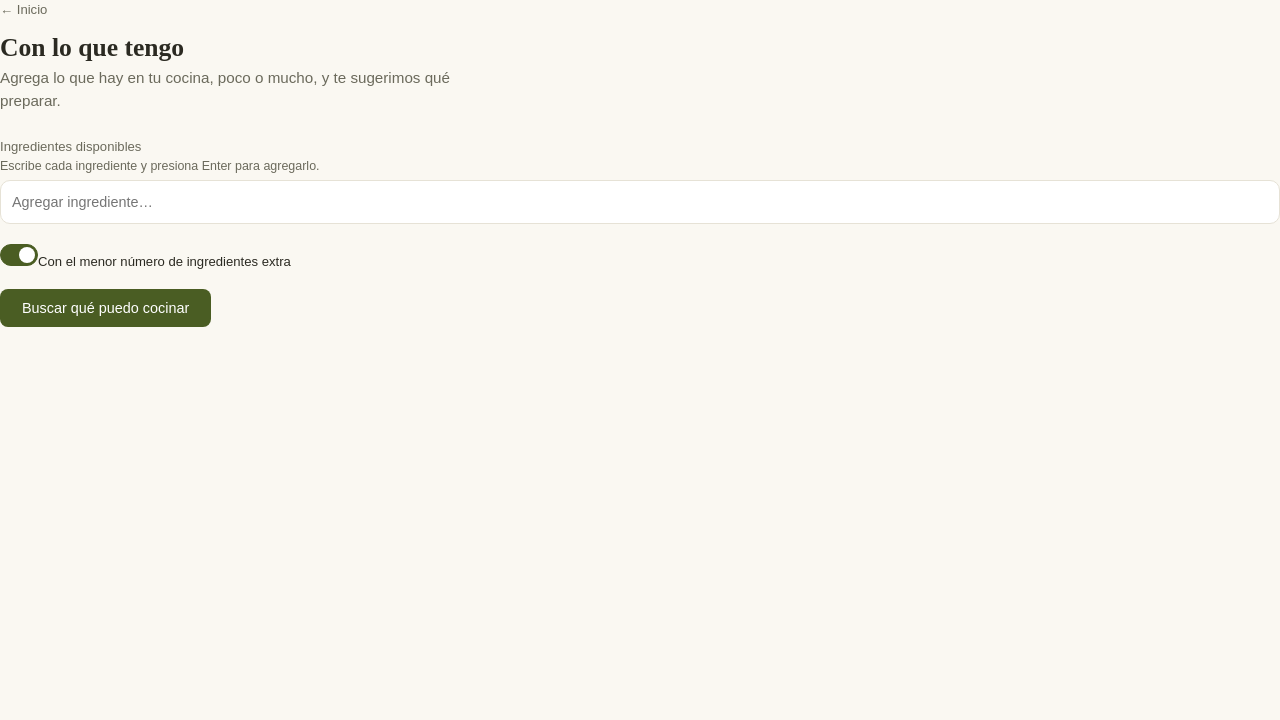
Test: HaveIngredientsComponent (Con lo que tengo) › "Buscar más opciones" agrega la siguiente tanda con la misma búsqueda
The image size is (1280, 720).
Type "pollo" into the field with placeholder "Agregar ingrediente…" at (640, 202), box left=10, top=193, right=1270, bottom=211
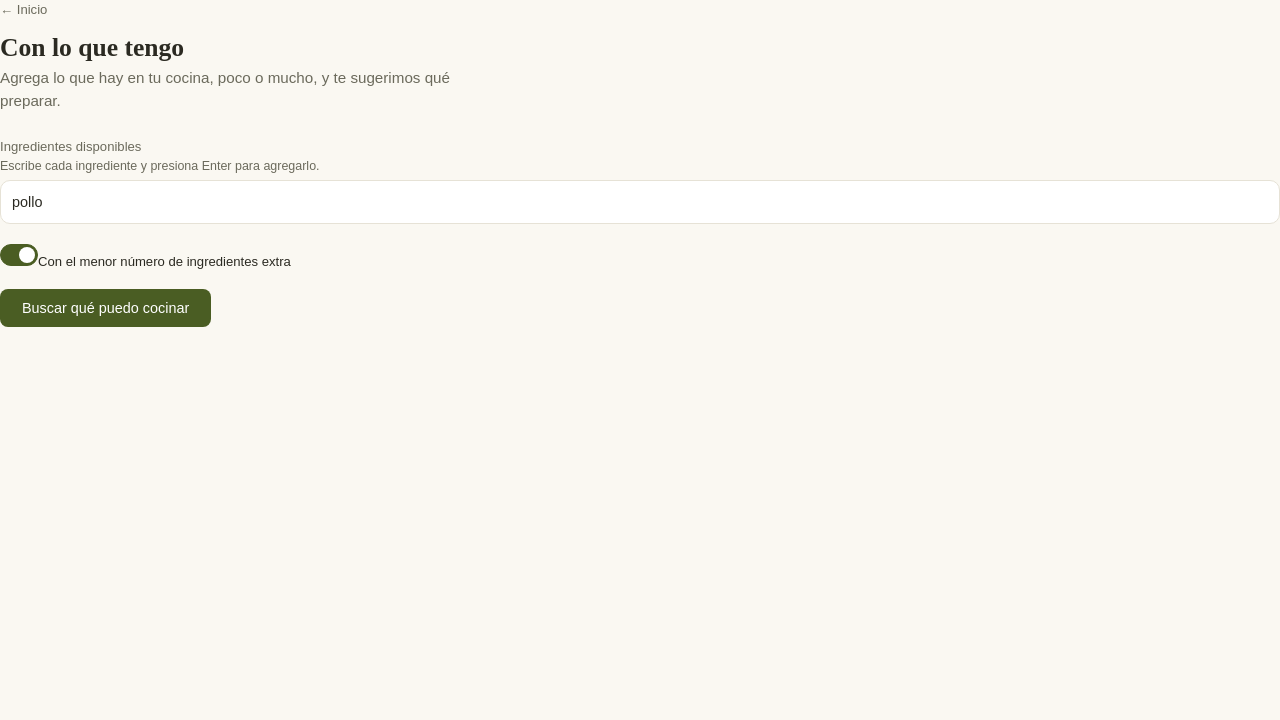
Press Enter in the field, box left=10, top=193, right=1270, bottom=211
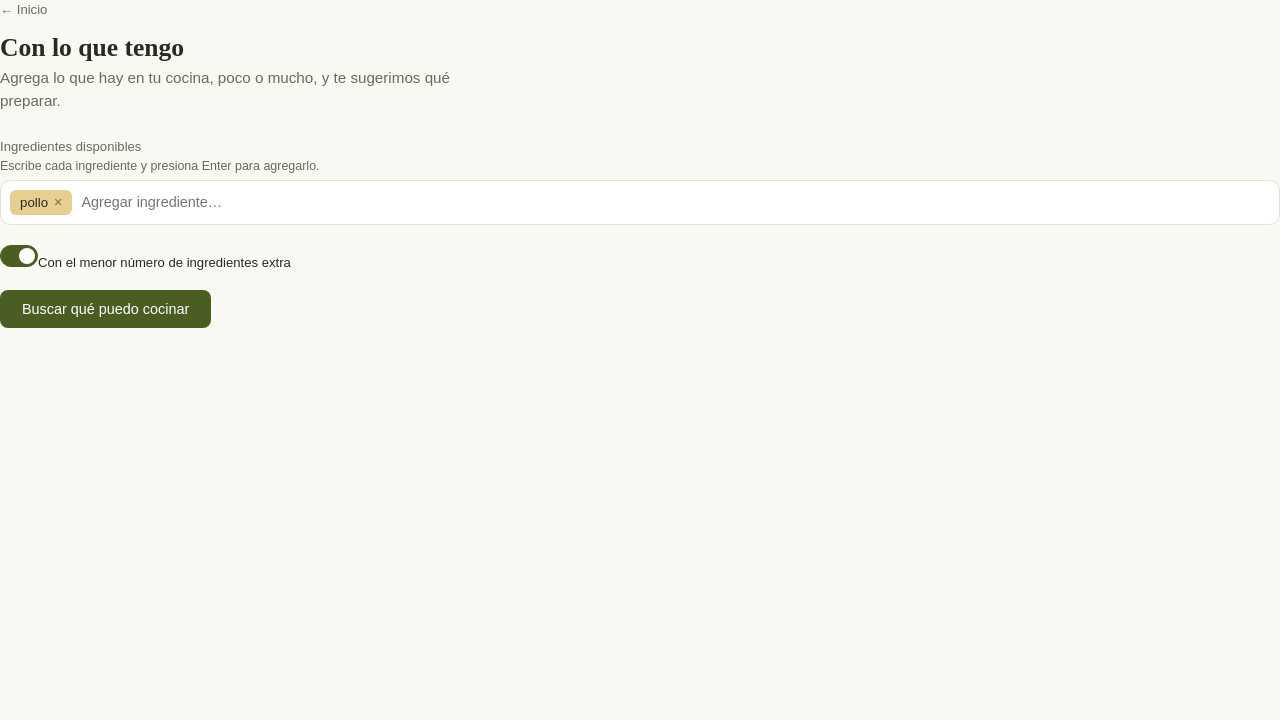
Click the button "Buscar qué puedo cocinar" at (106, 309), box left=0, top=290, right=211, bottom=328
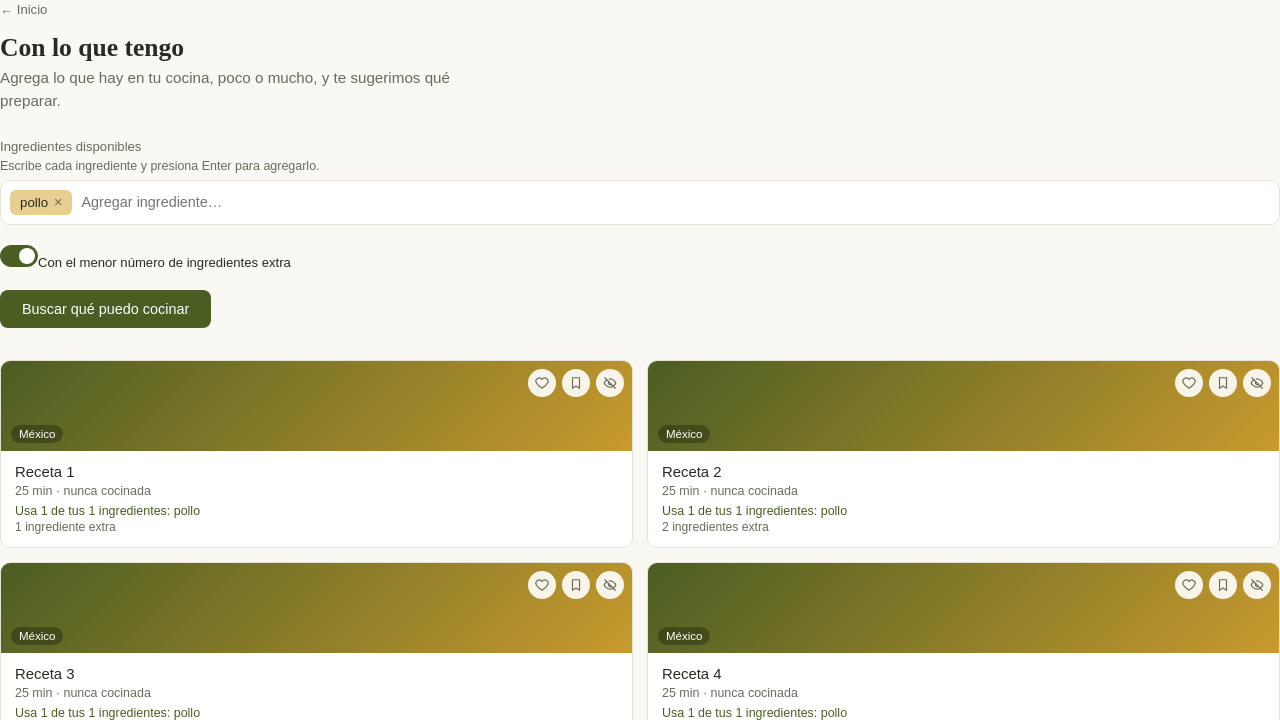
Type "arroz" into the field with placeholder "Agregar ingrediente…" at (675, 202), box left=79, top=193, right=1270, bottom=211
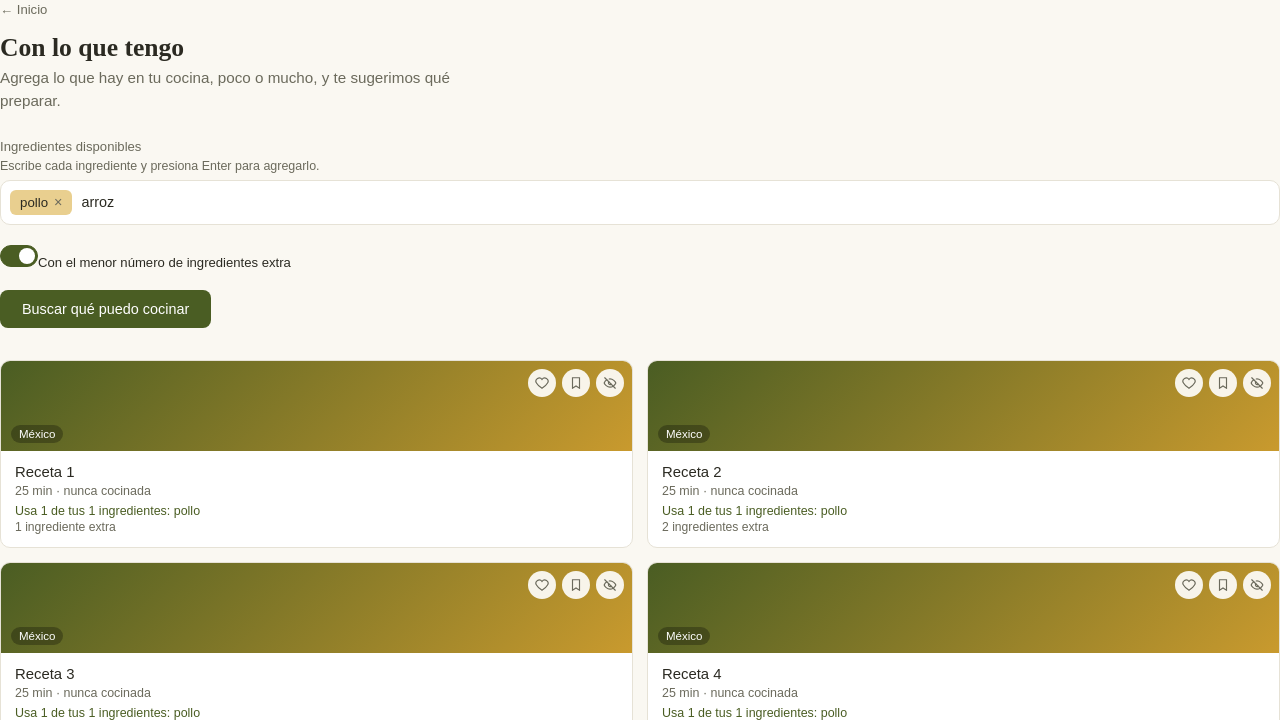
Press Enter in the field, box left=79, top=193, right=1270, bottom=211
(page scrolled)
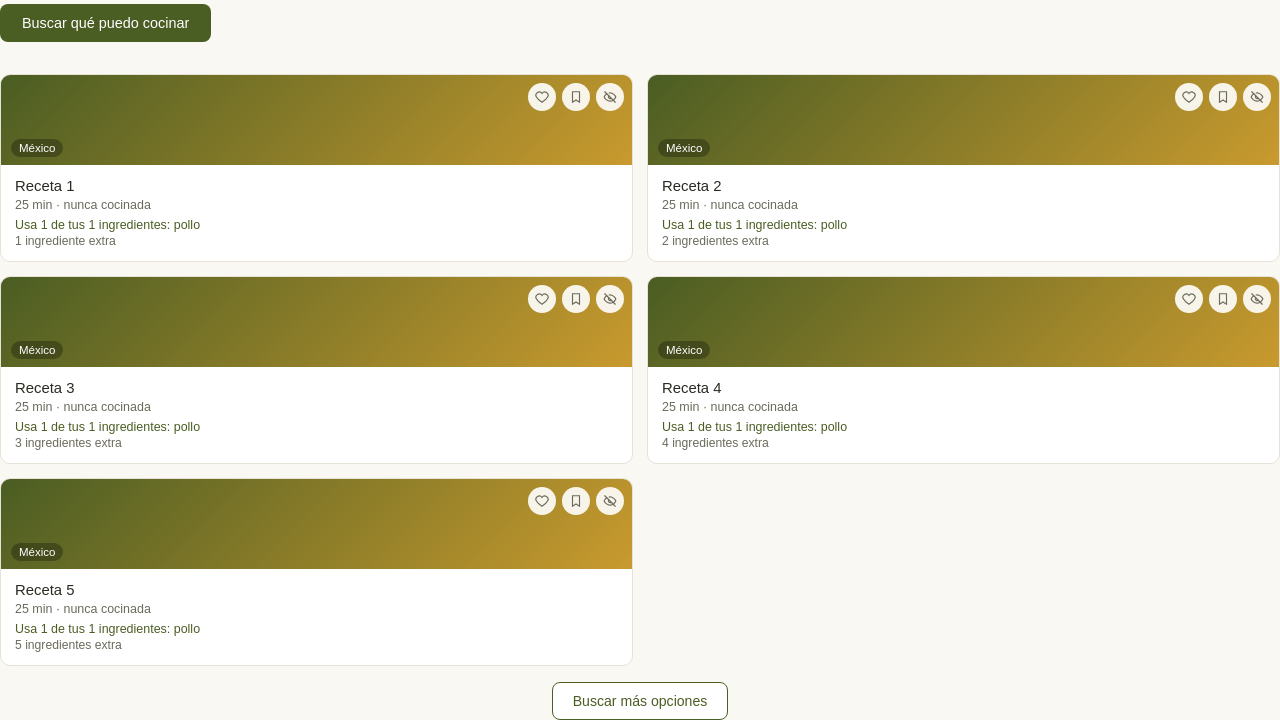
Click the button "Buscar más opciones" at (640, 701), box left=552, top=682, right=728, bottom=719
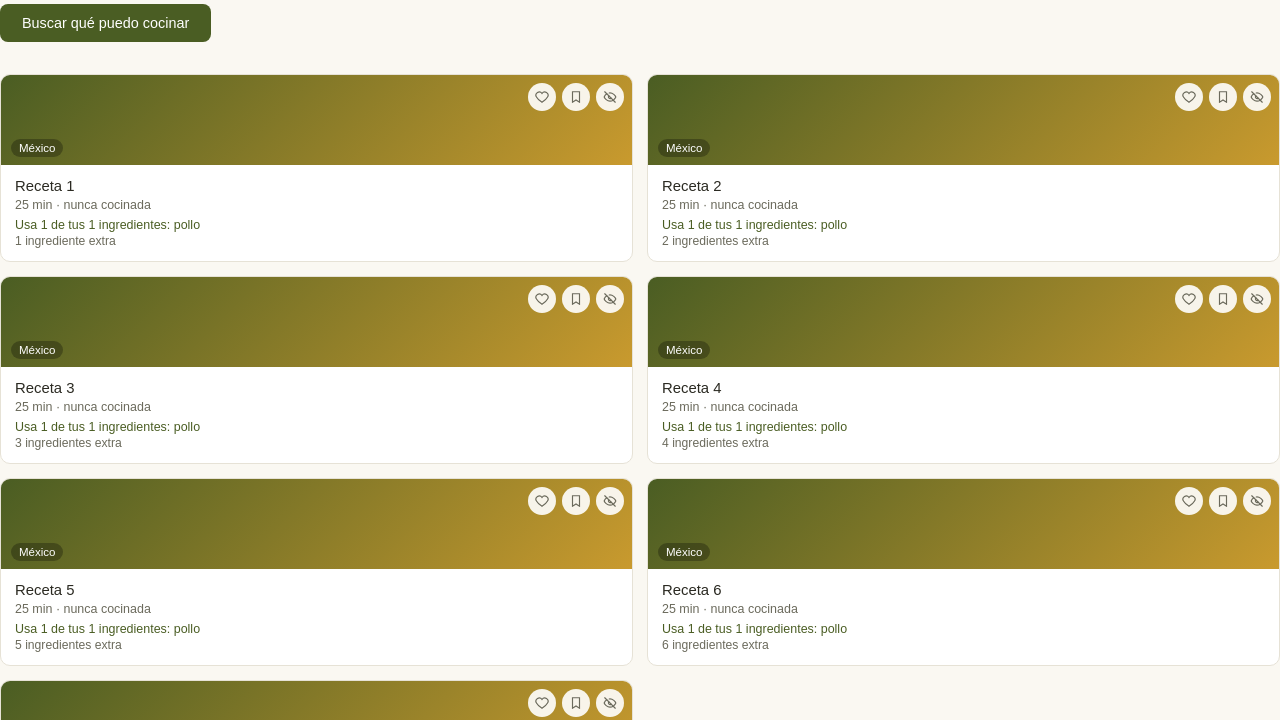
Check: the text "Buscar más opciones" is gone
